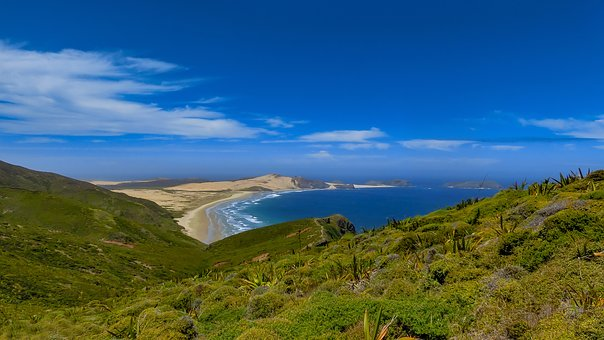mountain: (8, 228, 604, 340)
sea: (172, 169, 494, 234)
sky: (3, 6, 600, 176)
